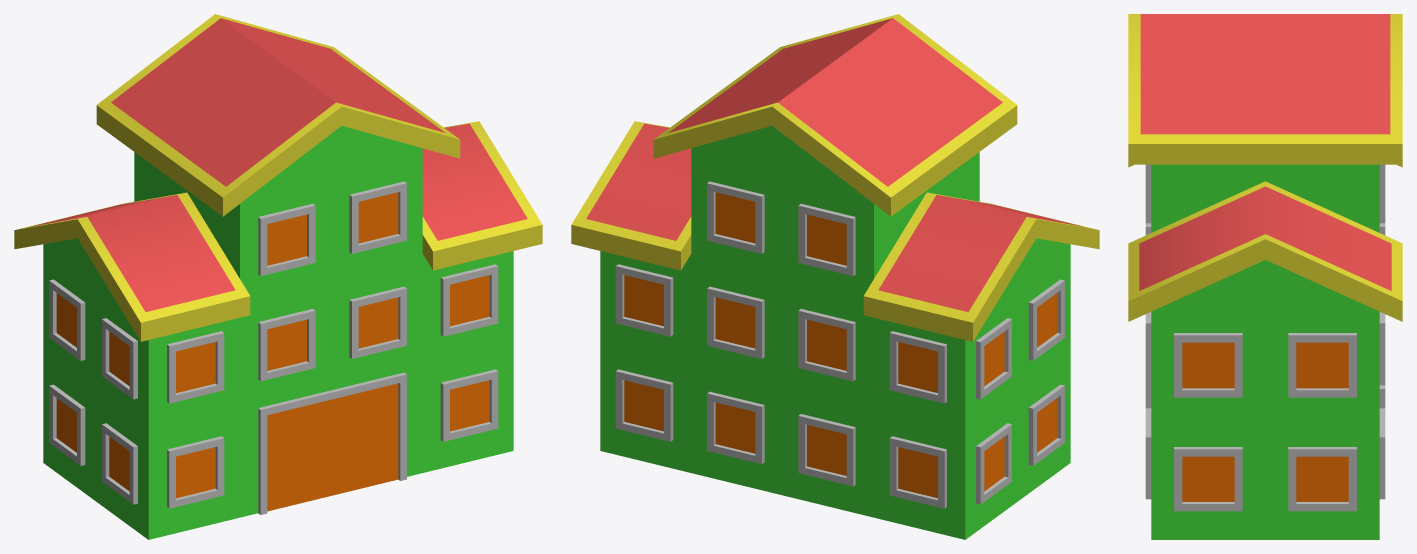
File: Building2.fbx
3 views of the same model, side by side, from view 1: azimuth 30°, elevation 25°; view 2: azimuth 150°, elevation 25°; view 3: azimuth 270°, elevation 25° (orthographic). The views are drawn at different scales.
Parts seen in each view (by area): view 1: Building2; view 2: Building2; view 3: Building2.
Boxes of the visible parts, x1,y1,x2,y2 form: Building2: (14, 14, 542, 539); Building2: (571, 14, 1099, 539); Building2: (1128, 14, 1402, 539).
Size of the model in its own units: 440 by 415 by 240.
